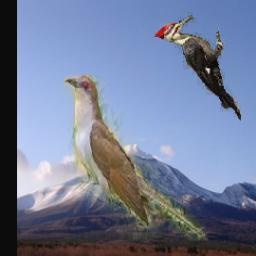Cuckoo: (64, 76, 210, 242)
Woodpecker: (154, 12, 241, 120)
